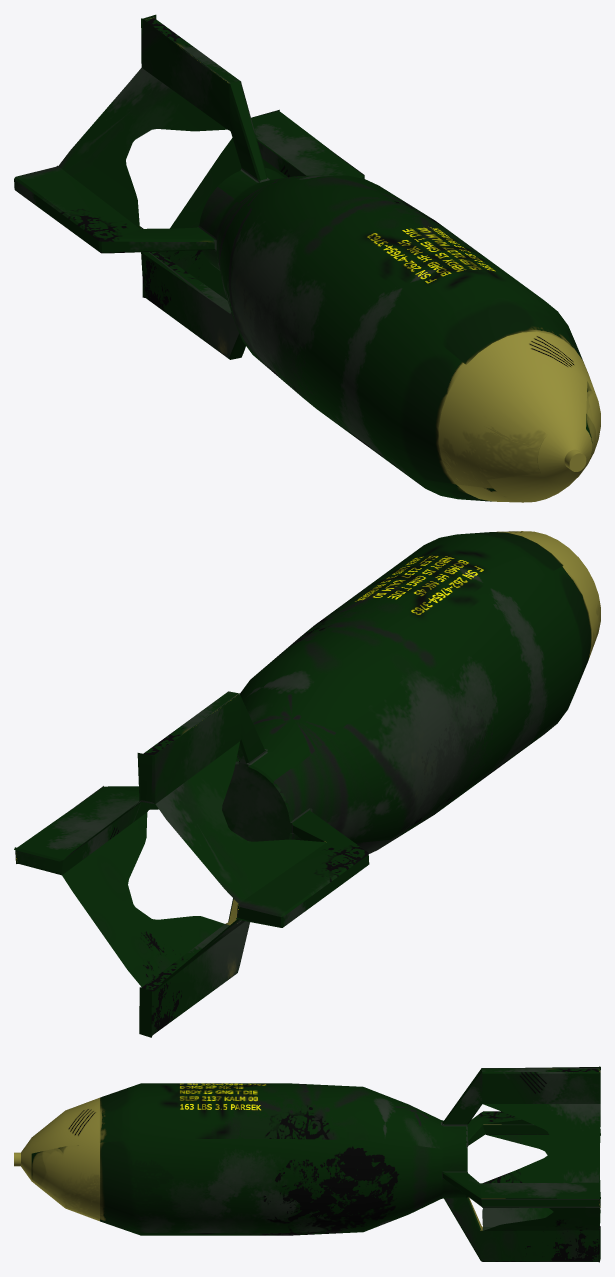
The model's file is bomba.fbx.
3 renders of one model, top to bottom at view 1: azimuth 30°, elevation 25°; view 2: azimuth 150°, elevation 25°; view 3: azimuth 270°, elevation 25°, orthographic. The views are drawn at different scales.
Visible parts, largest first — view 1: Bomb; view 2: Bomb; view 3: Bomb.
Boxes of the visible parts, x1,y1,x2,y2 form: Bomb: [14, 14, 600, 502]; Bomb: [14, 531, 600, 1037]; Bomb: [14, 1066, 600, 1262].
Bounding box in the file's own units: 140 × 140 × 391.
Materials: 1 (1 with a texture image).
